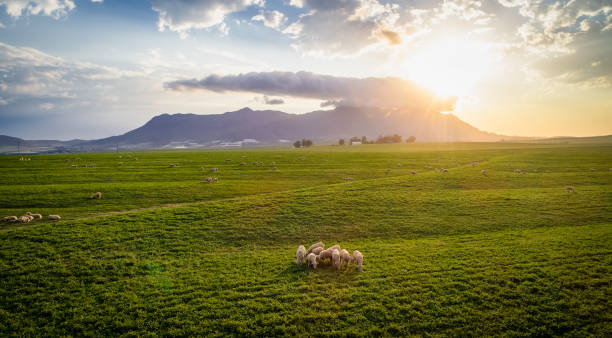sheep: (338, 247, 352, 269), (320, 246, 343, 259), (351, 250, 365, 271), (307, 241, 325, 256), (328, 249, 341, 269), (308, 251, 320, 269), (24, 212, 43, 223), (295, 245, 303, 263), (3, 215, 19, 224), (88, 192, 103, 201), (48, 213, 62, 222)
